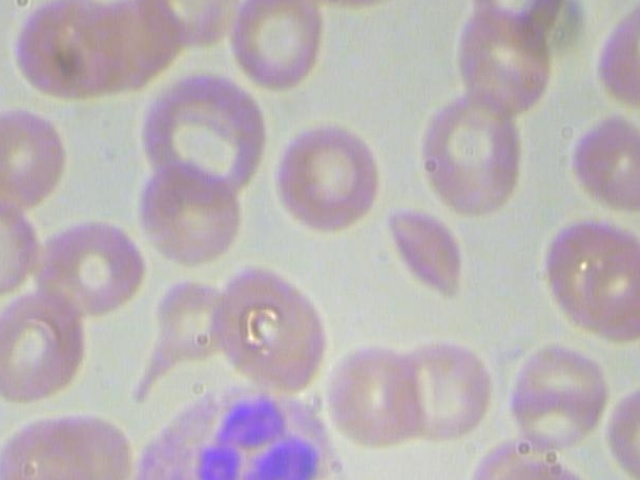WBC: (124, 379, 357, 480)
